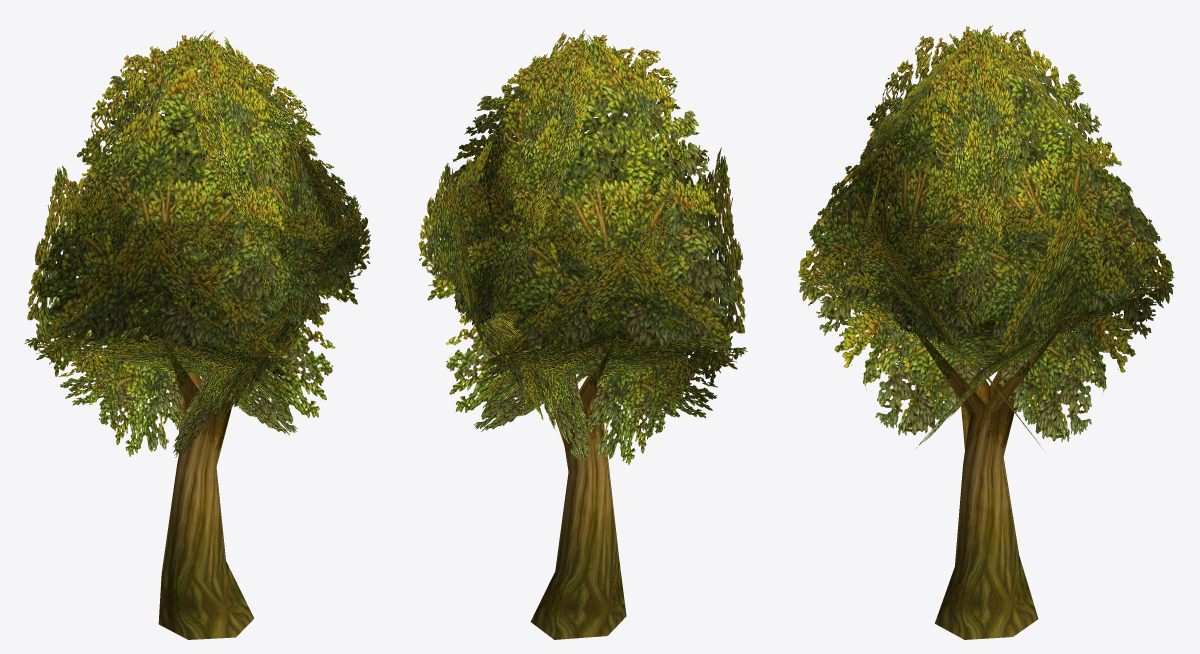
File: elwynntreecanopy04.glb
3 views of the same model, side by side, from view 1: azimuth 30°, elevation 25°; view 2: azimuth 150°, elevation 25°; view 3: azimuth 270°, elevation 25° (orthographic).
Size of the model in its own units: 52.67 by 82.9 by 50.97.
2 materials, 2 textured.
